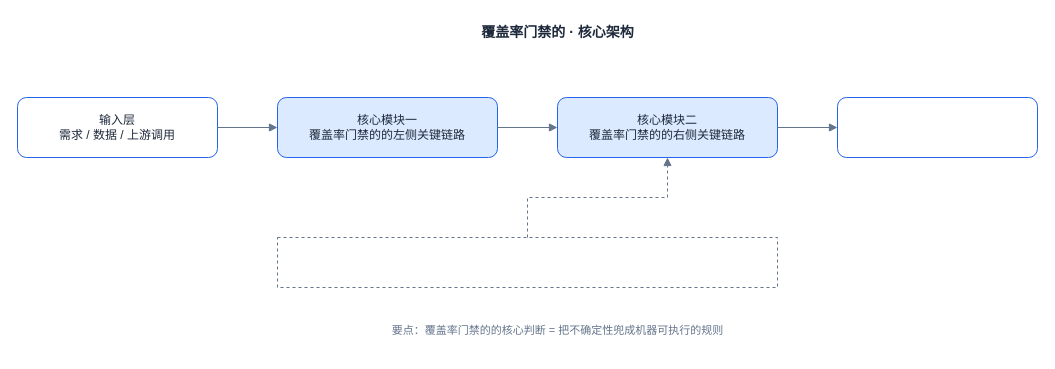
Image size: 1055x369. Some labels were removed from this diagram. The shapes that lost their labels are listed below. From the top down, each one's centre as x and y in pixels, then its label:
pixel 937 127: 输出 / 结果 产物 / 上线 / 反馈
pixel 527 262: 兜底层 质量 / 安全 / 监控 / 评审
